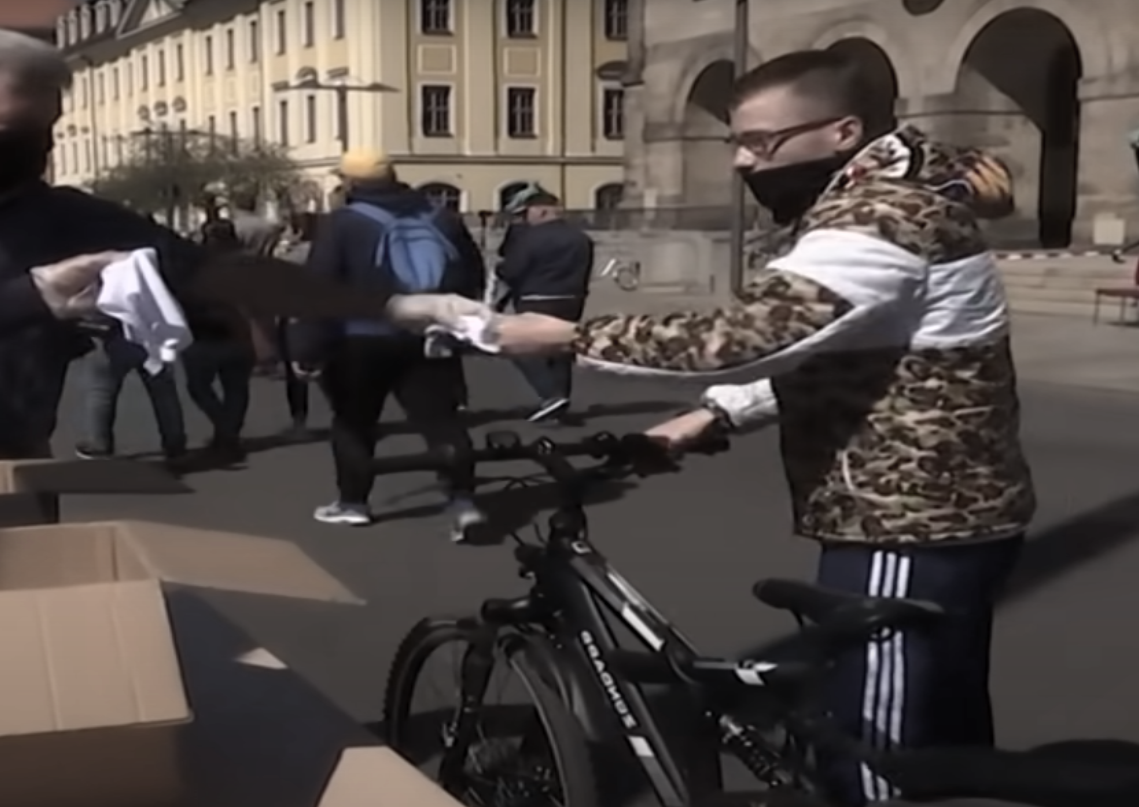mask_weared_incorrect: (718, 47, 892, 222)
